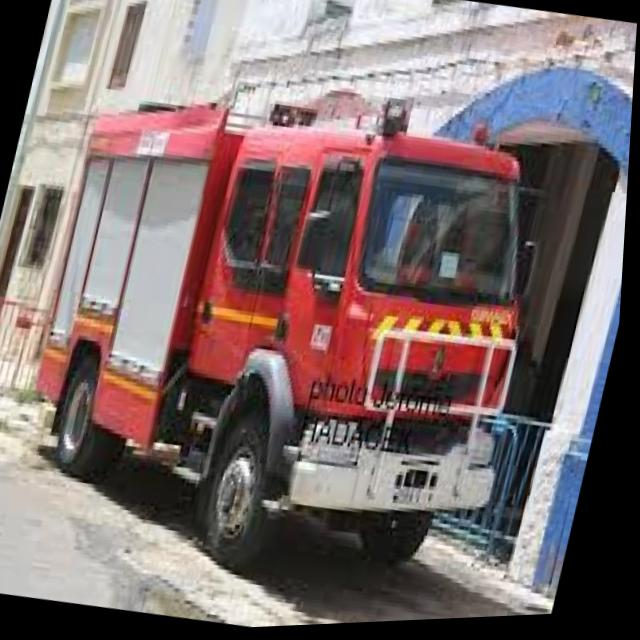Protection Civile: (0, 37, 592, 639)
